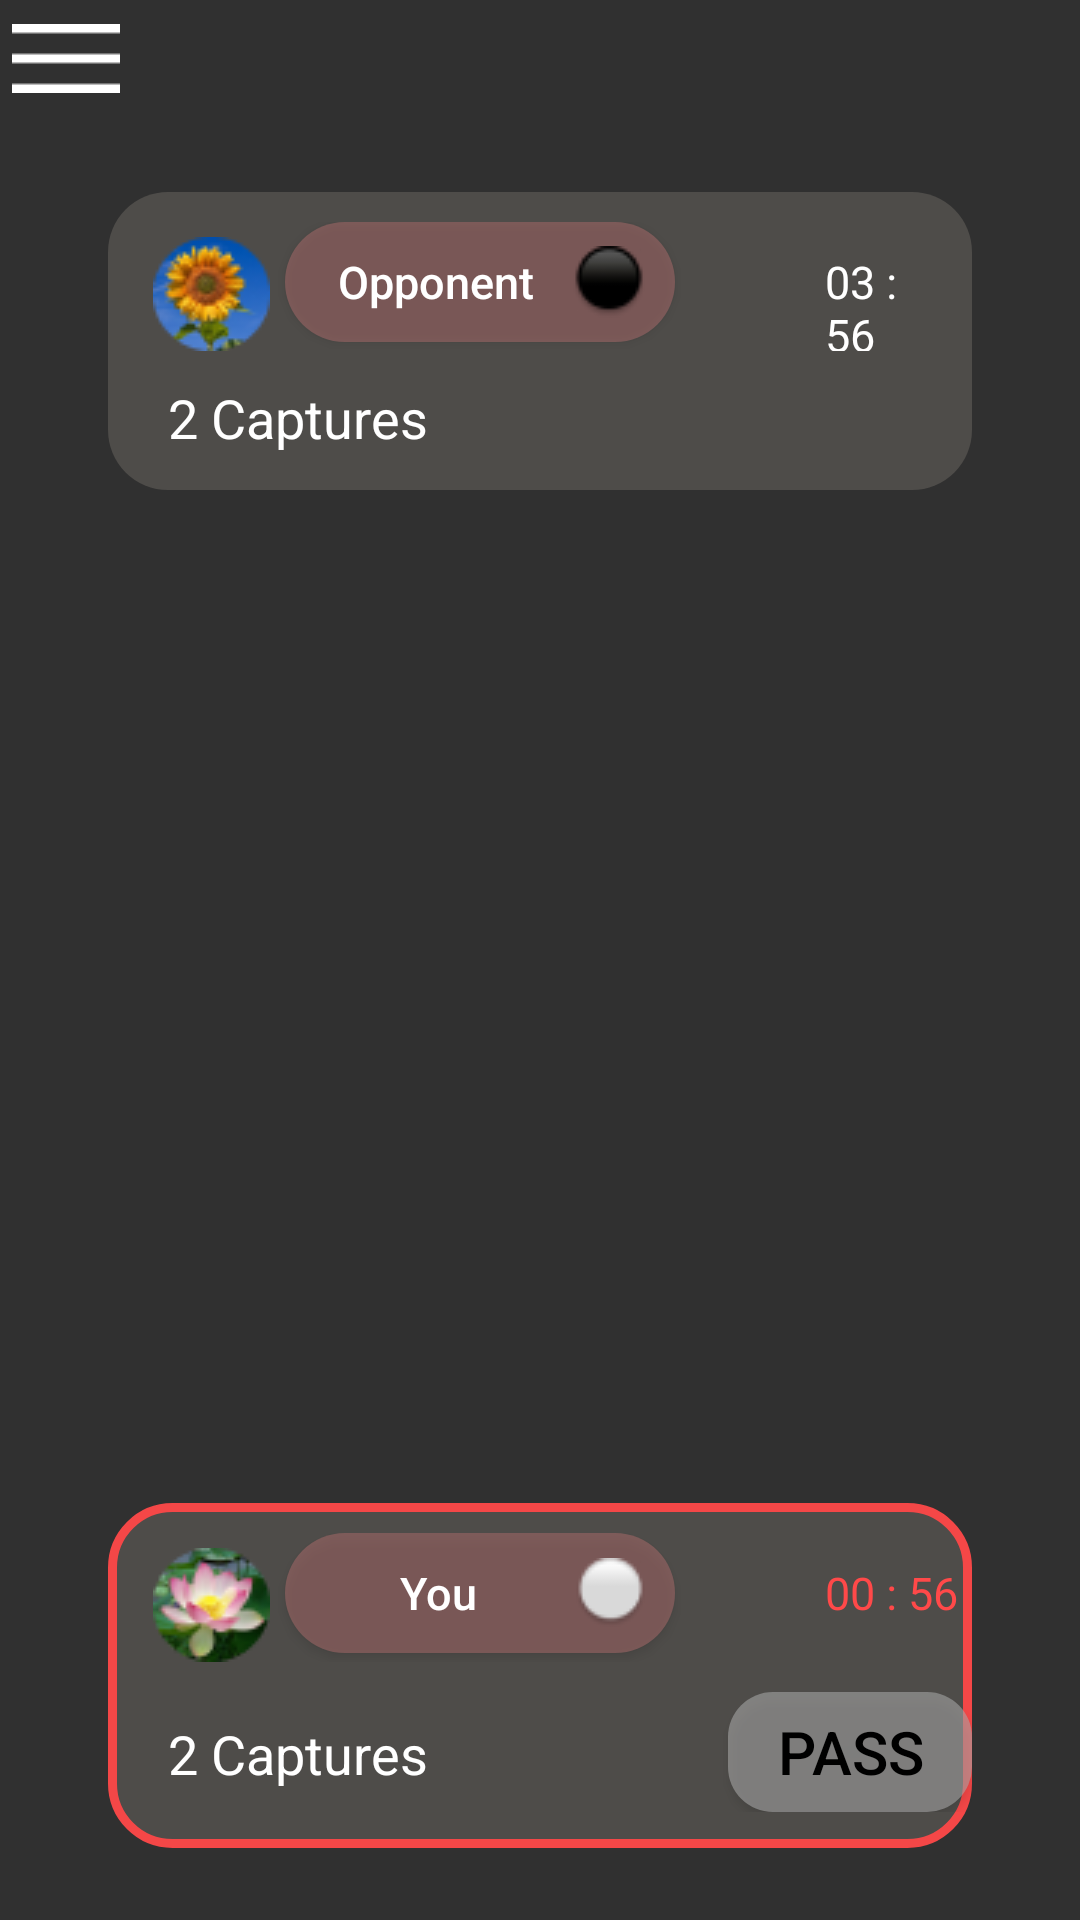

Locate icon controls on the screen. Image size 1080x1920, boxes as (x1, y1, x2, y2).
Menu Button: (12, 24, 120, 93)
User Profile Picture: (153, 1548, 270, 1662)
